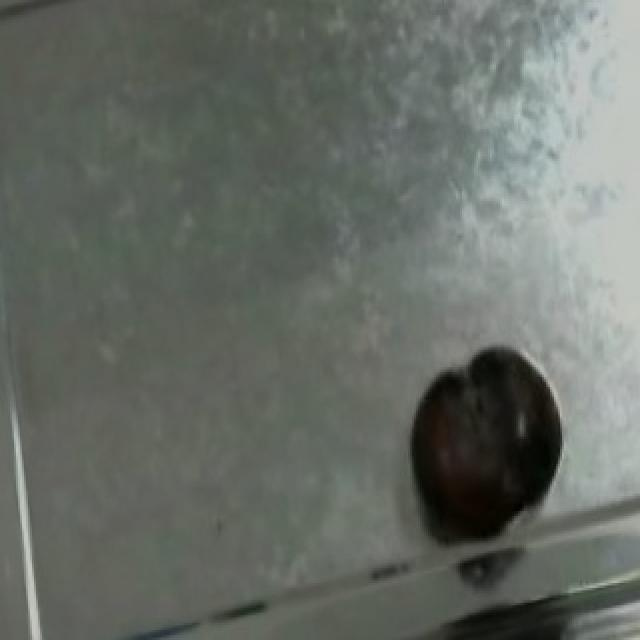Fruit: (394, 337, 582, 556)
